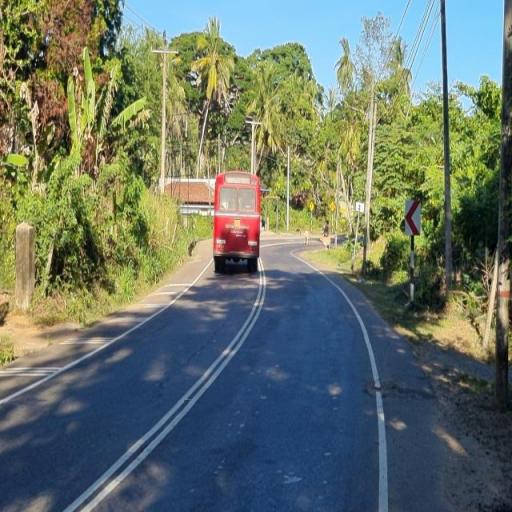double_white_line: (64, 253, 269, 512)
